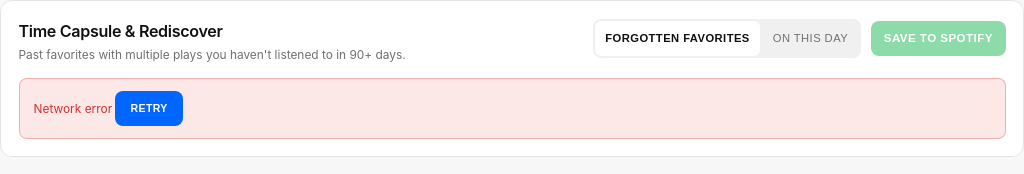
Test case: RediscoverCard › handles error state and retry
The image size is (1024, 174).
expect the text "Network error Retry" is shown: met, box [18,78,1006,139]
What coordinates should you click on to do the following:
click the button "Retry"
I would click on:
 (149, 108)
Its box is [116,91,183,126].
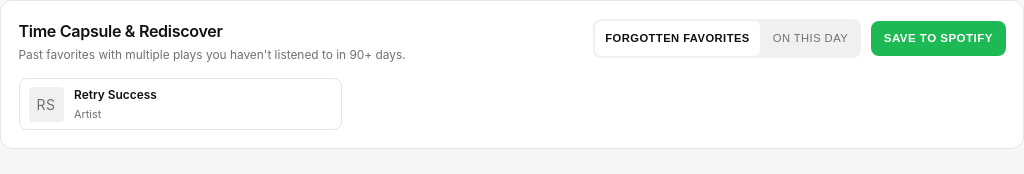
expect the text "Retry Success" is shown: met, box [74,87,157,102]
